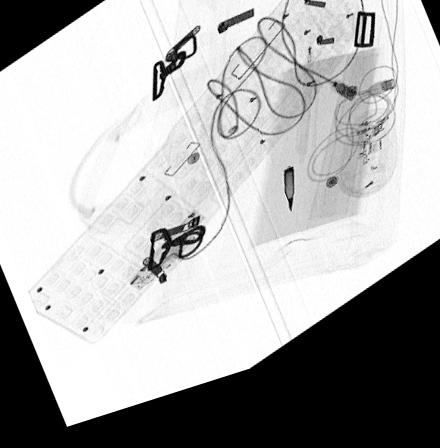Bullet: (283, 182, 294, 228)
